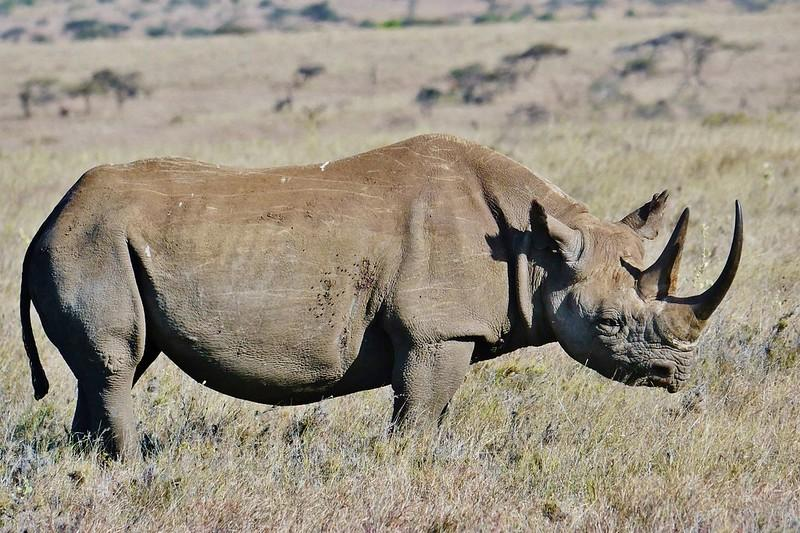rhinoceros: (0, 106, 764, 480)
